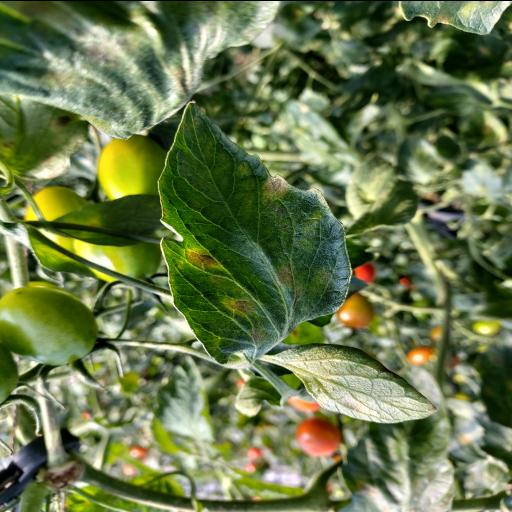Leaf Mold: (160, 99, 350, 361)
